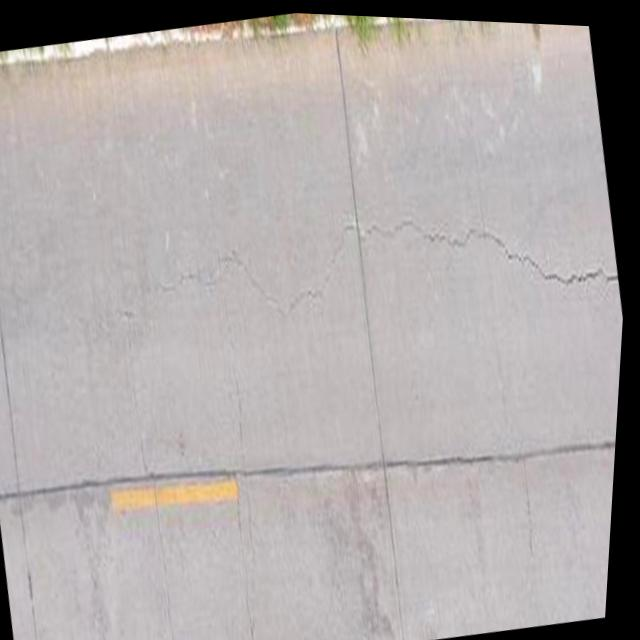Crack: (439, 196, 533, 287), (535, 232, 627, 309)
